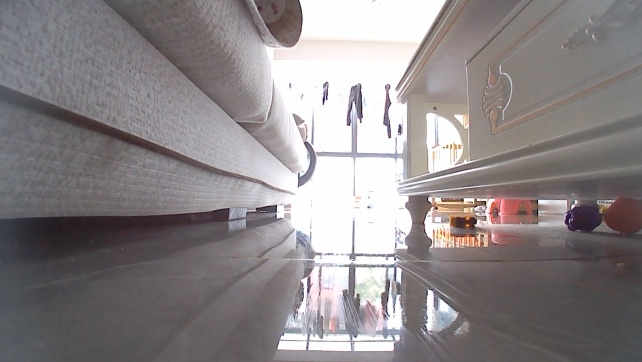sofa1: (0, 0, 312, 222)
tea_table1: (385, 0, 641, 227)
